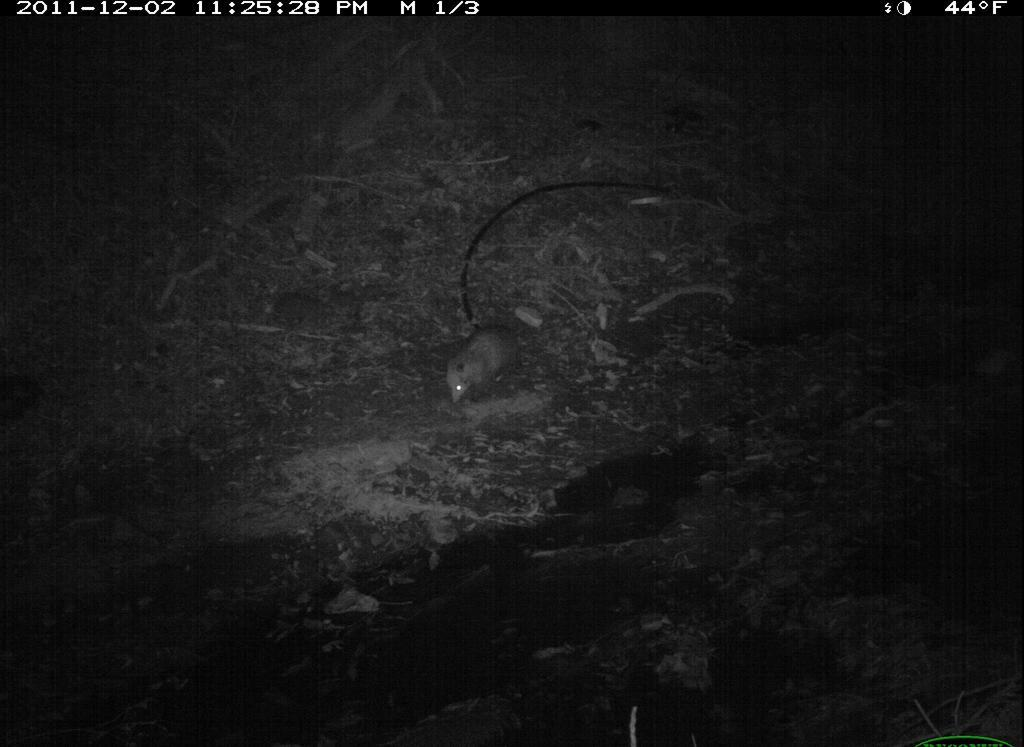opossum: (438, 317, 542, 417)
